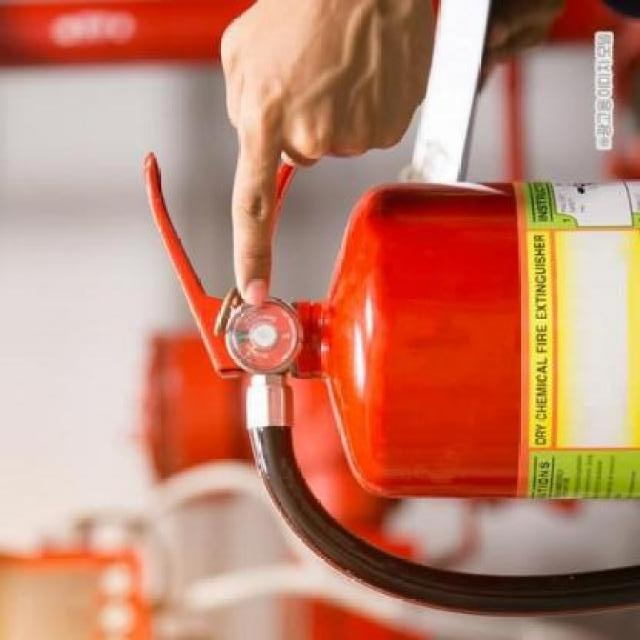fire extinguisher: (141, 151, 640, 617)
